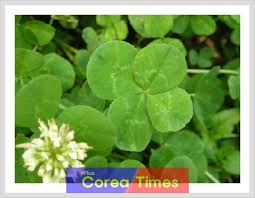4-clover: (88, 39, 195, 152)
